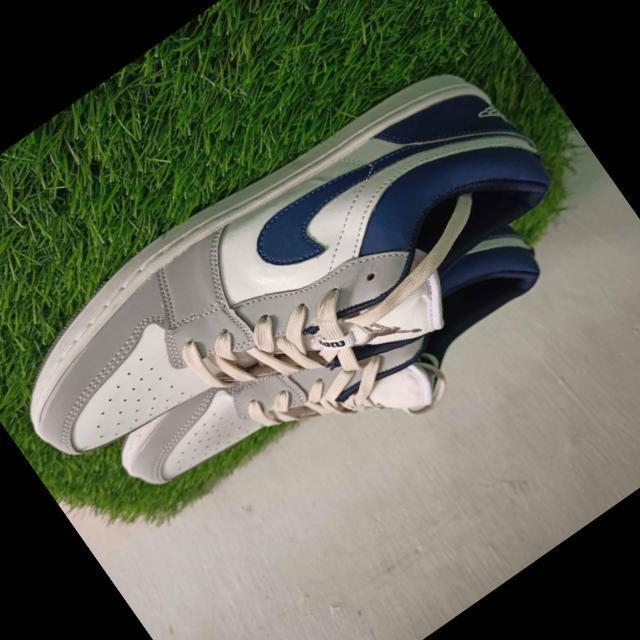nike fake jordan 1: (0, 29, 591, 566), (105, 180, 578, 576)
